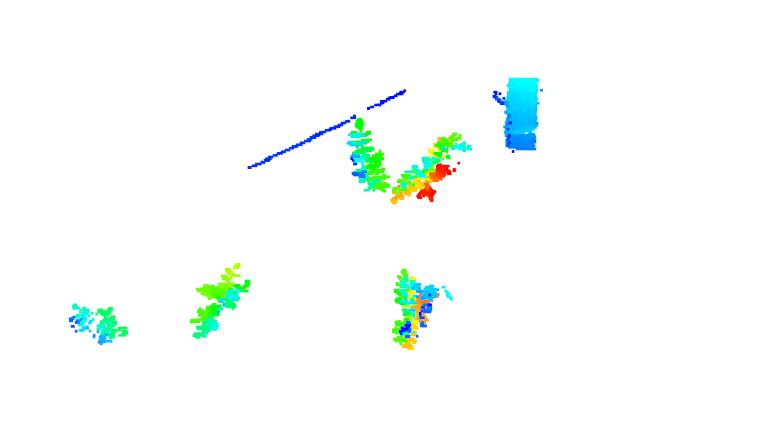chickpea: (385, 130, 472, 205), (188, 262, 252, 340), (388, 265, 444, 350), (346, 117, 392, 193), (65, 302, 130, 349)
